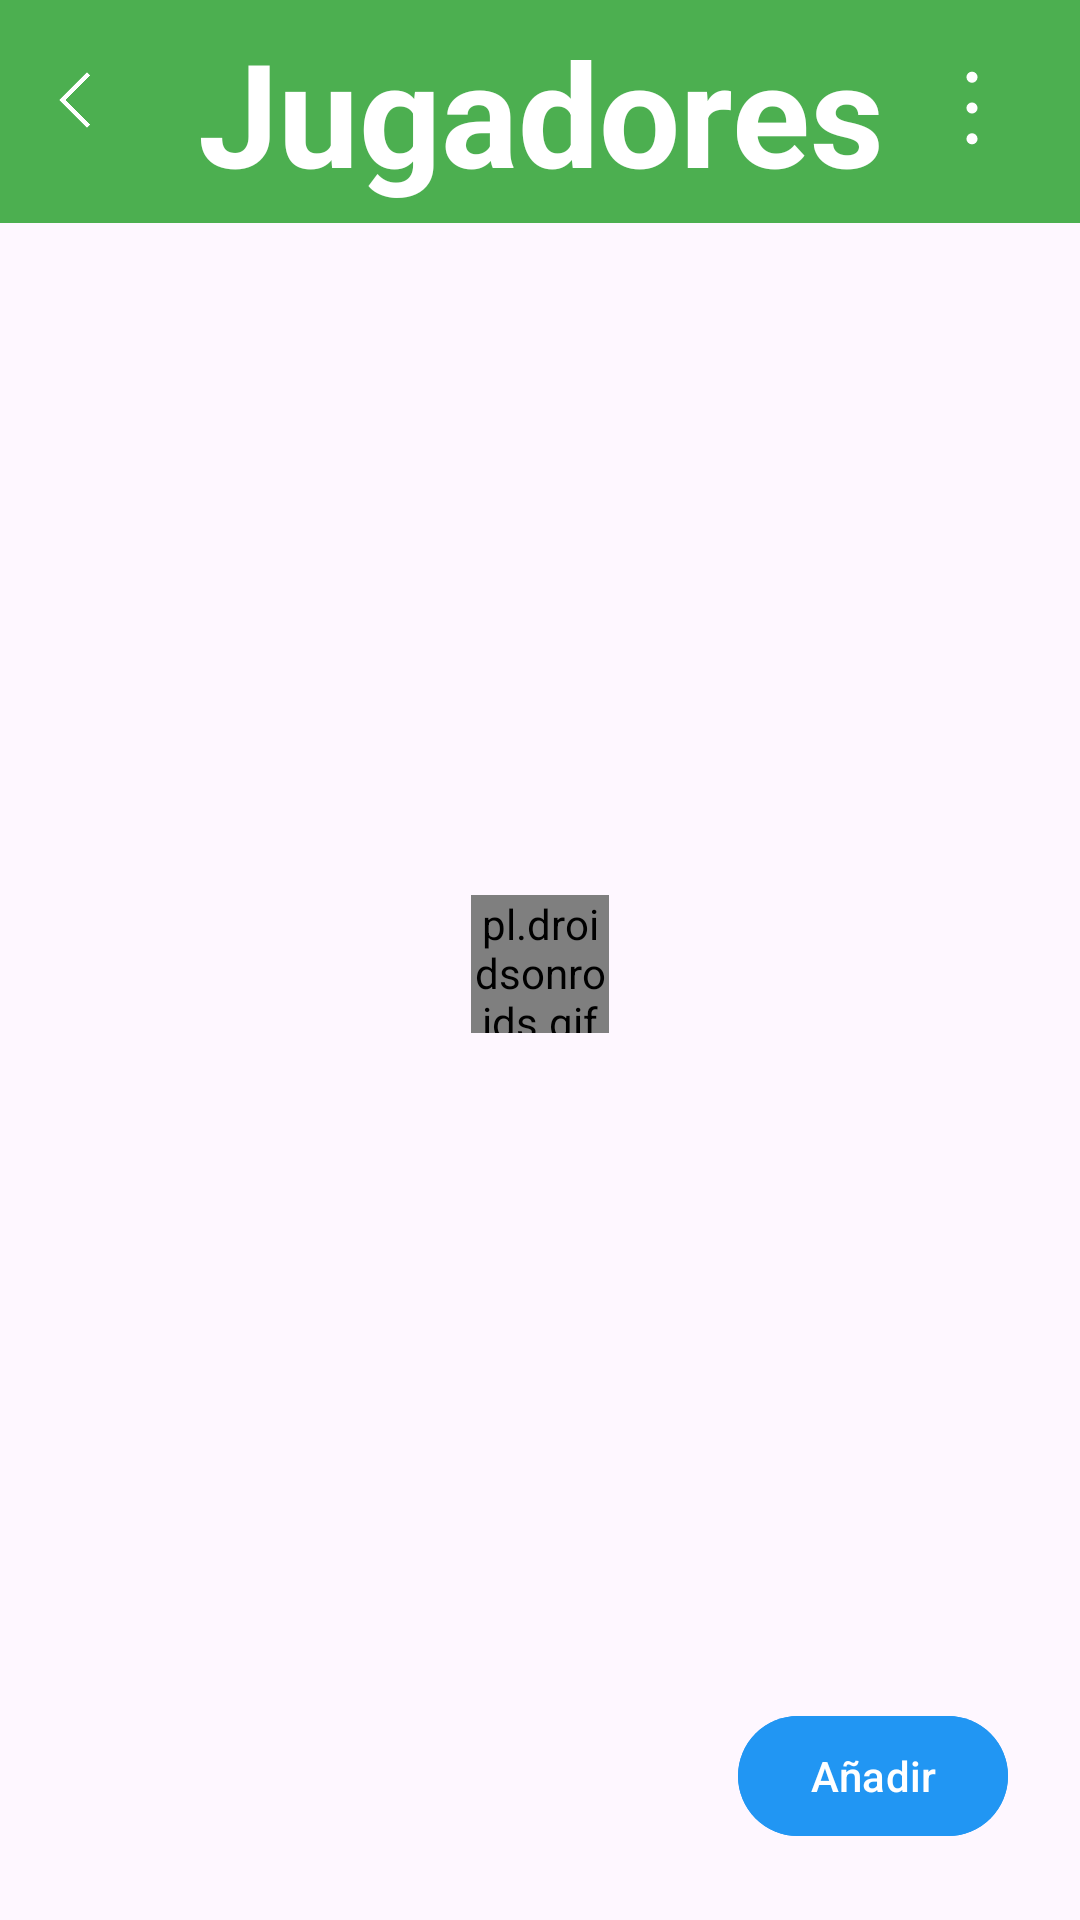

Named icons in this screenshot (1080 × 1920) and their bounding boxes, [x1=x1, y1=y1, x2=x2, y2=y2]:
arrow back: [x1=59, y1=72, x2=90, y2=128]
